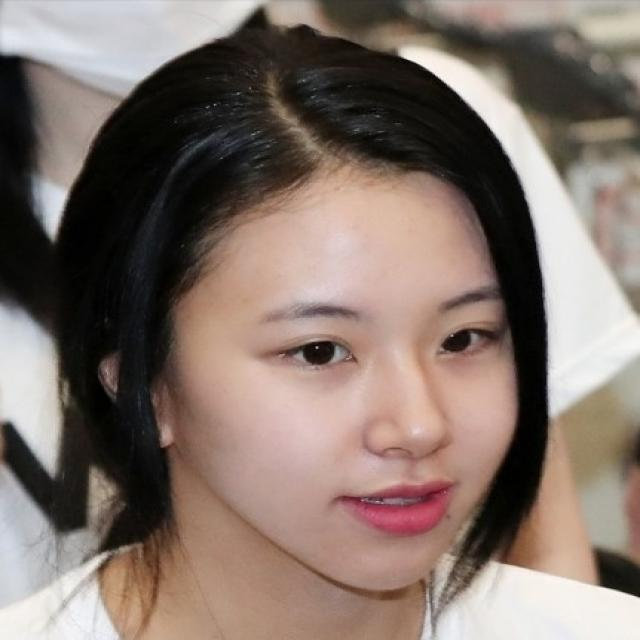face: (175, 178, 527, 602)
